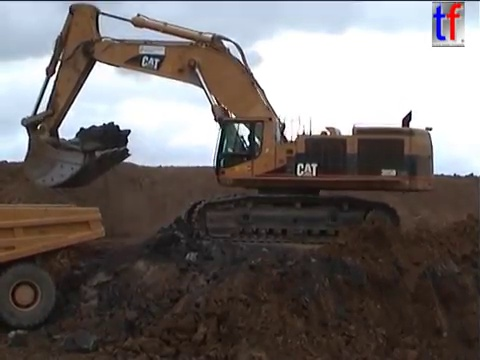excavator: (18, 1, 438, 252)
truck: (1, 199, 106, 330)
